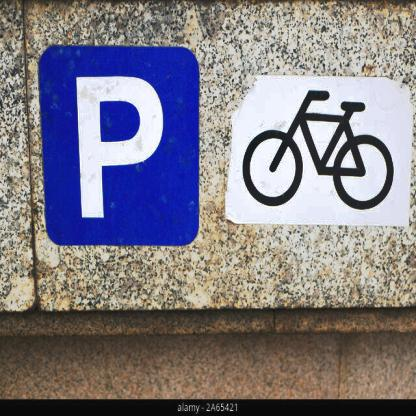Parking: (35, 46, 196, 242)
